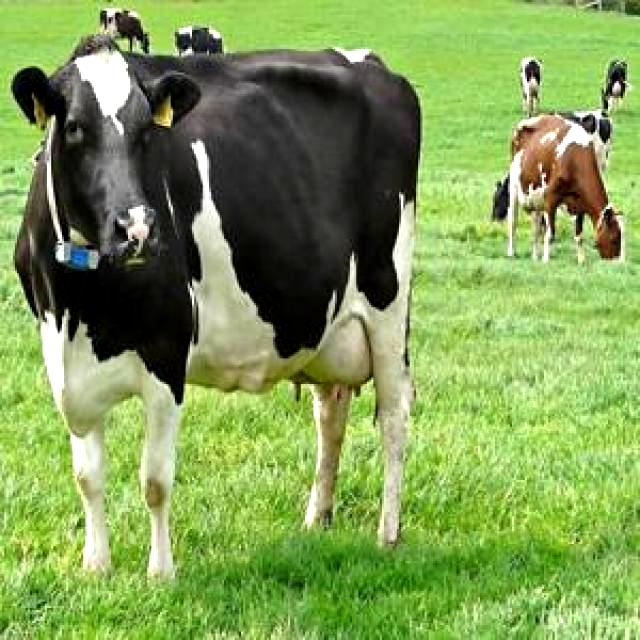COW: (11, 35, 420, 579)
